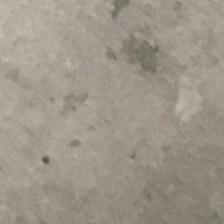Non_Crack: (18, 12, 224, 224)
